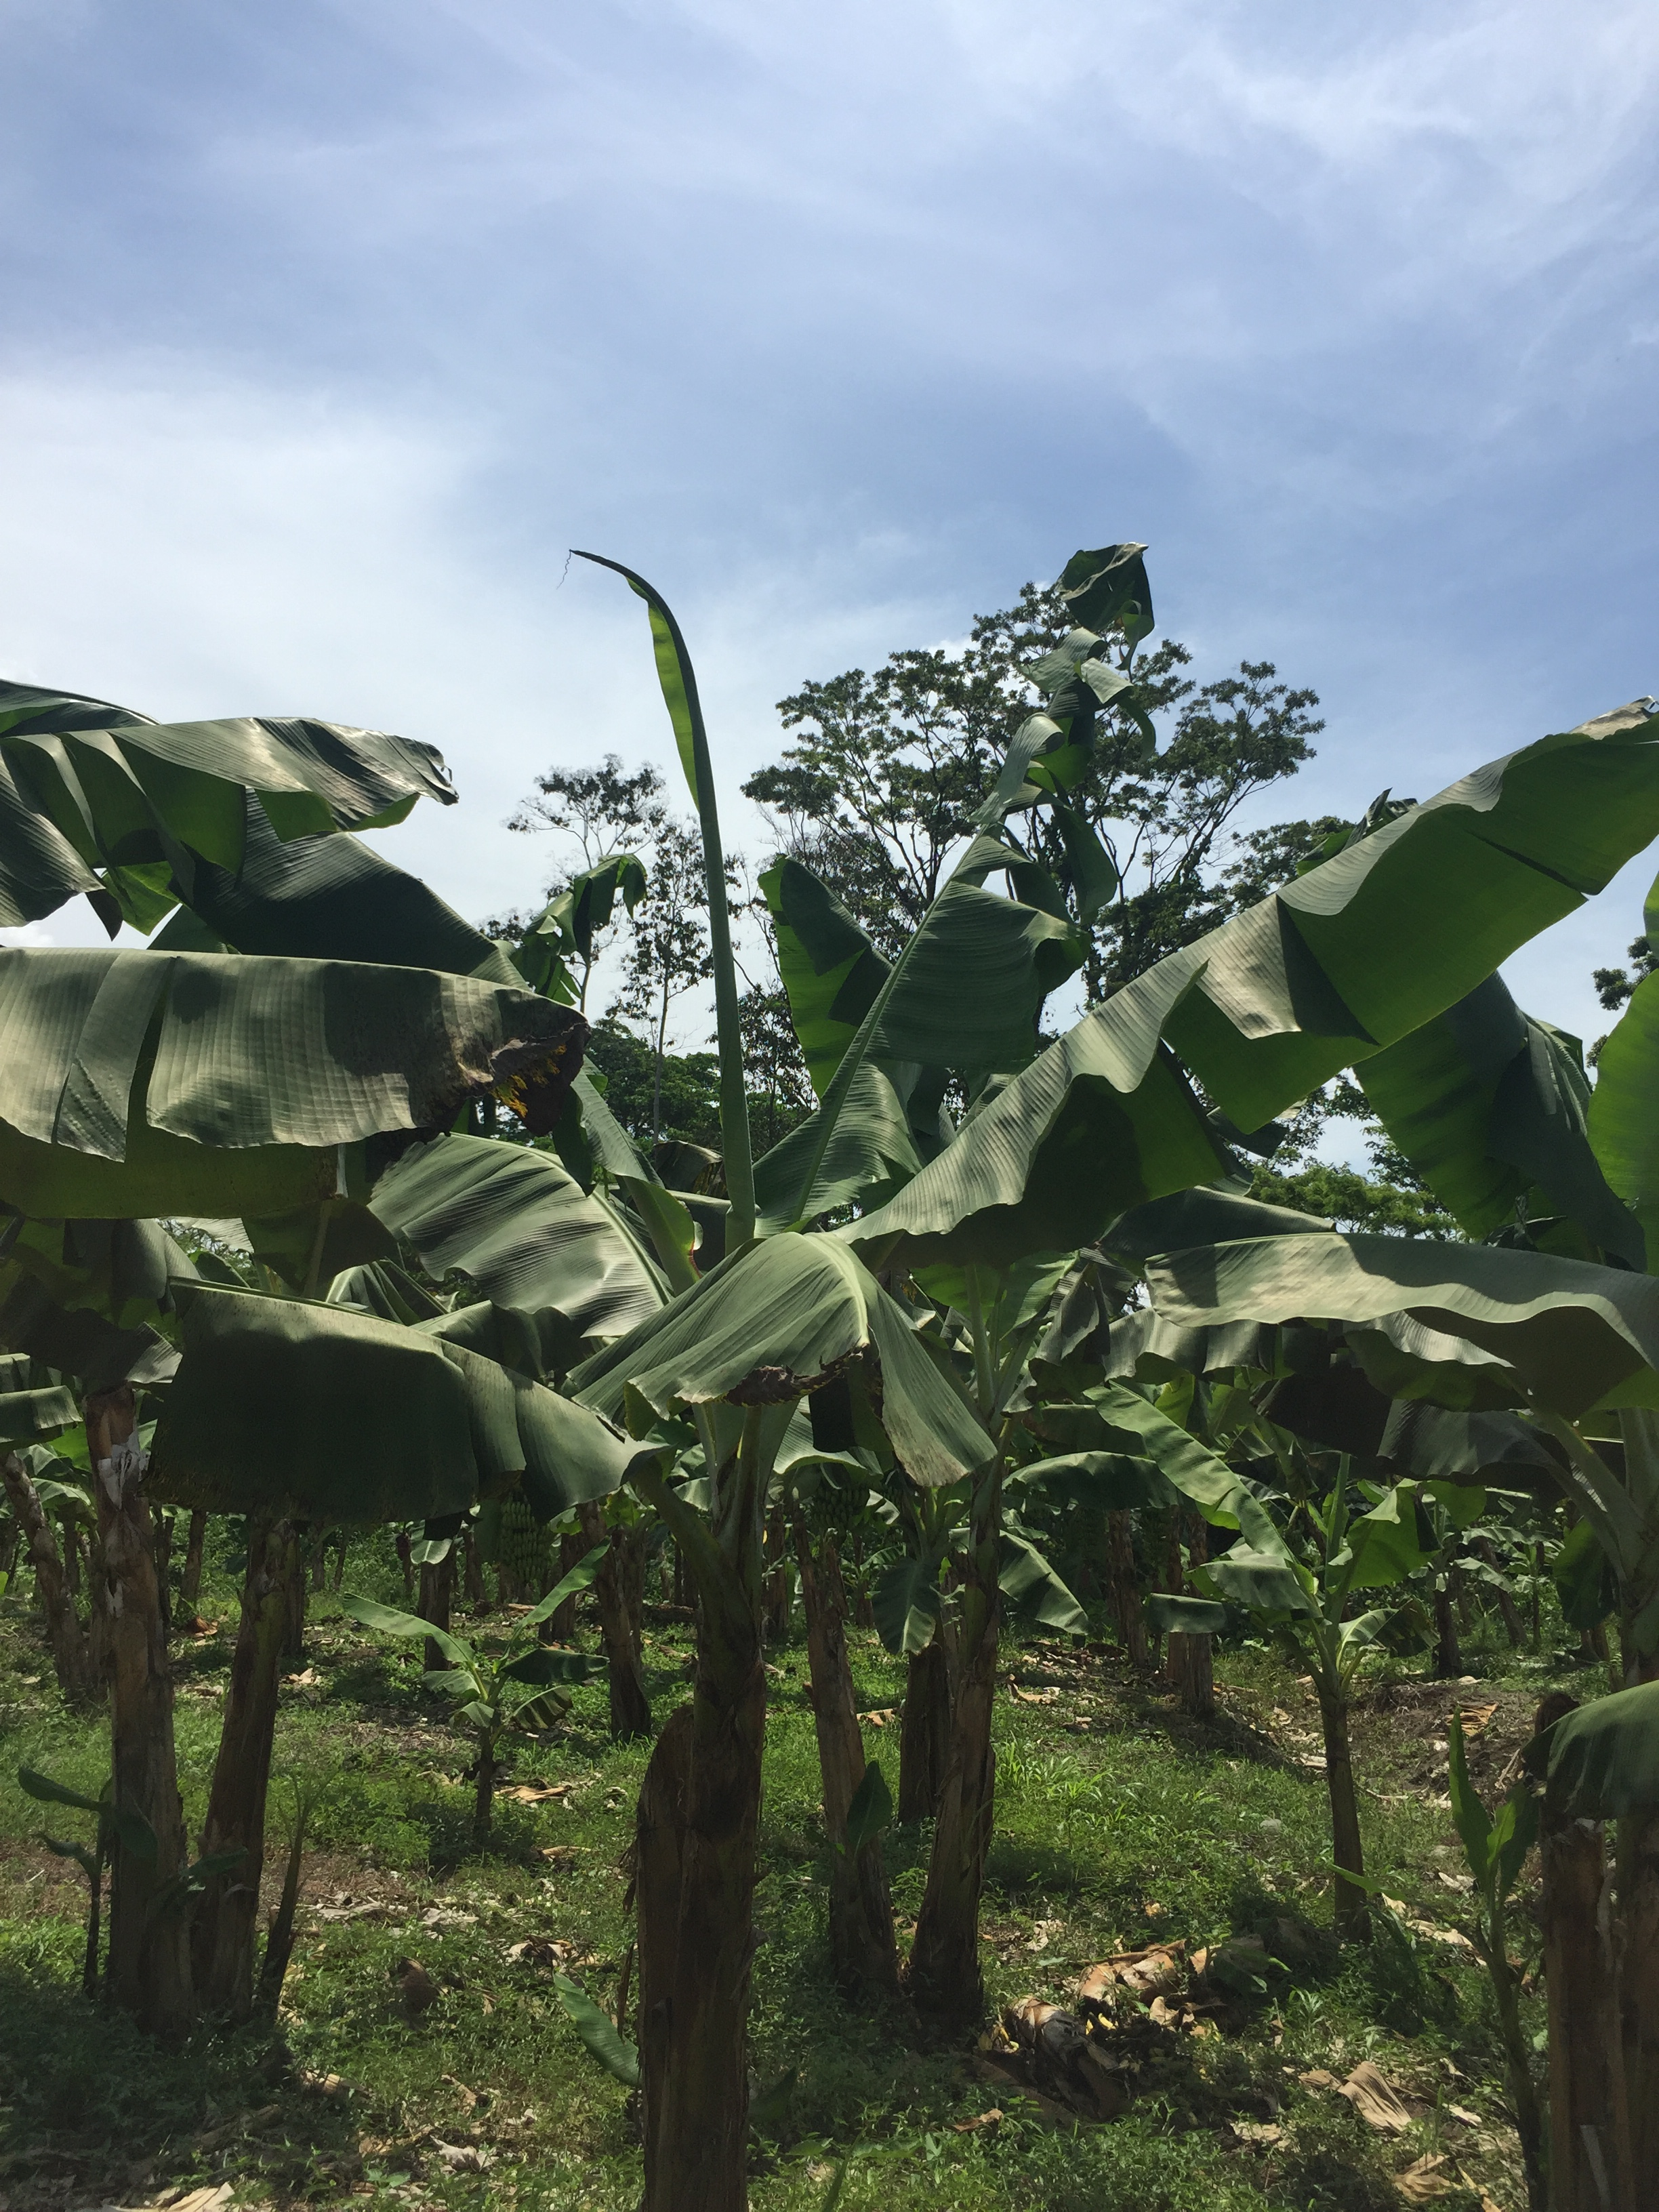candleleafs: (556, 549, 755, 1247)
